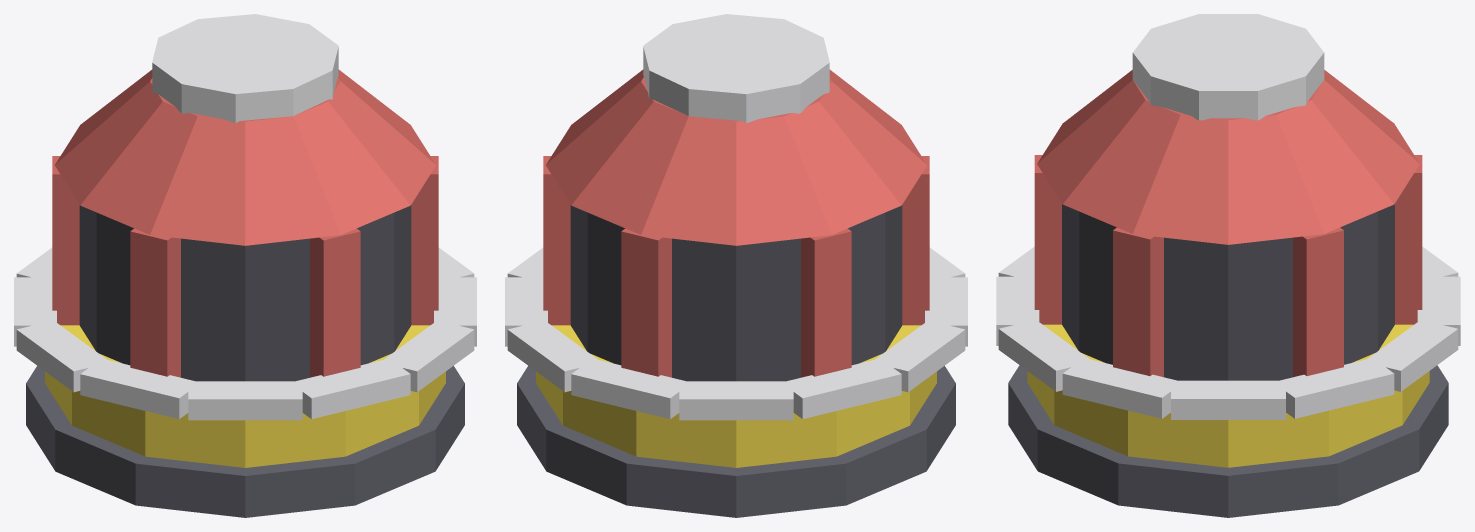
The model's file is bumper.glb.
The picture shows the model from 3 angles, left to right: view 1: azimuth 30°, elevation 25°; view 2: azimuth 150°, elevation 25°; view 3: azimuth 270°, elevation 25°; orthographic projection.
Parts seen in each view (by area): view 1: bumper; view 2: bumper; view 3: bumper.
Part boxes in pixels (x1=…): bumper: x1=14, y1=14, x2=476, y2=517; bumper: x1=505, y1=14, x2=967, y2=517; bumper: x1=996, y1=14, x2=1460, y2=517.
Bounding box in the file's own units: 1 × 0.885 × 1.
